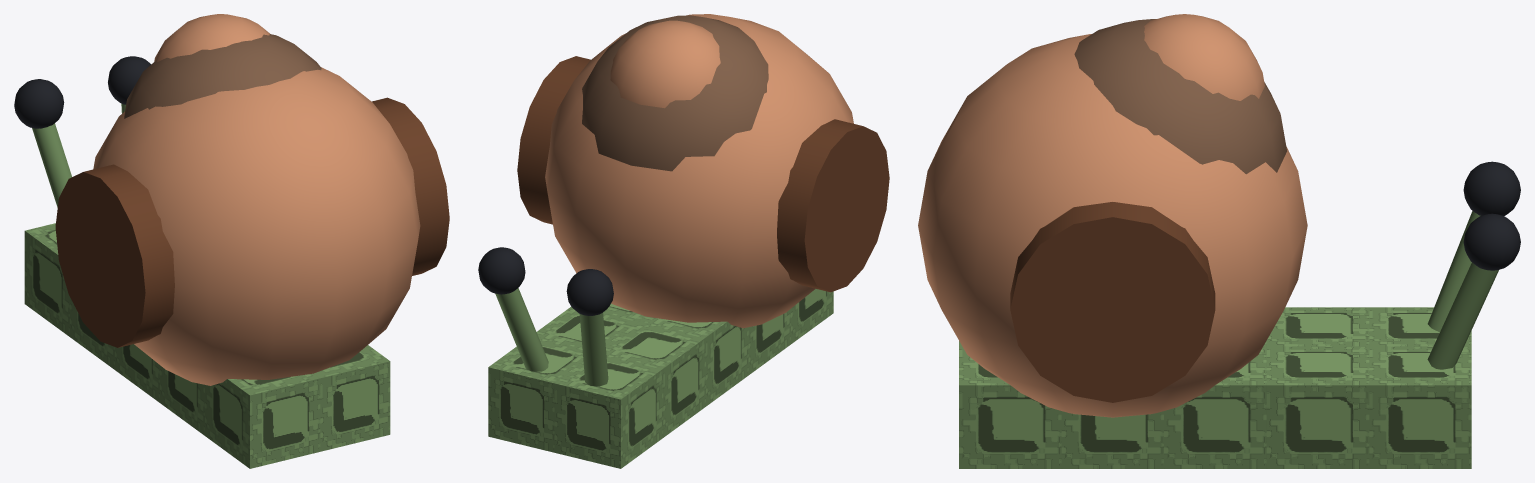
Rendered from GiantPondSnail.glb.
3 renders of one model, left to right at view 1: azimuth 30°, elevation 25°; view 2: azimuth 150°, elevation 25°; view 3: azimuth 270°, elevation 25°, orthographic. The views are drawn at different scales.
Parts seen in each view (by area): view 1: GiantPondSnail; view 2: GiantPondSnail; view 3: GiantPondSnail.
Part boxes in pixels (<box>): GiantPondSnail: <box>14,14,449,468</box>; GiantPondSnail: <box>478,14,889,468</box>; GiantPondSnail: <box>918,14,1520,468</box>.
Bounding box in the file's own units: 3.9 × 4.4 × 5.88.
1 material, 1 textured.
